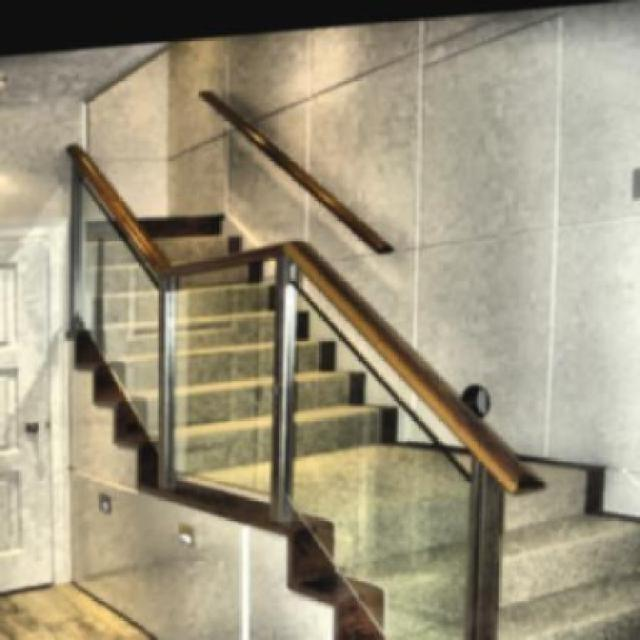stair: (85, 152, 584, 638)
